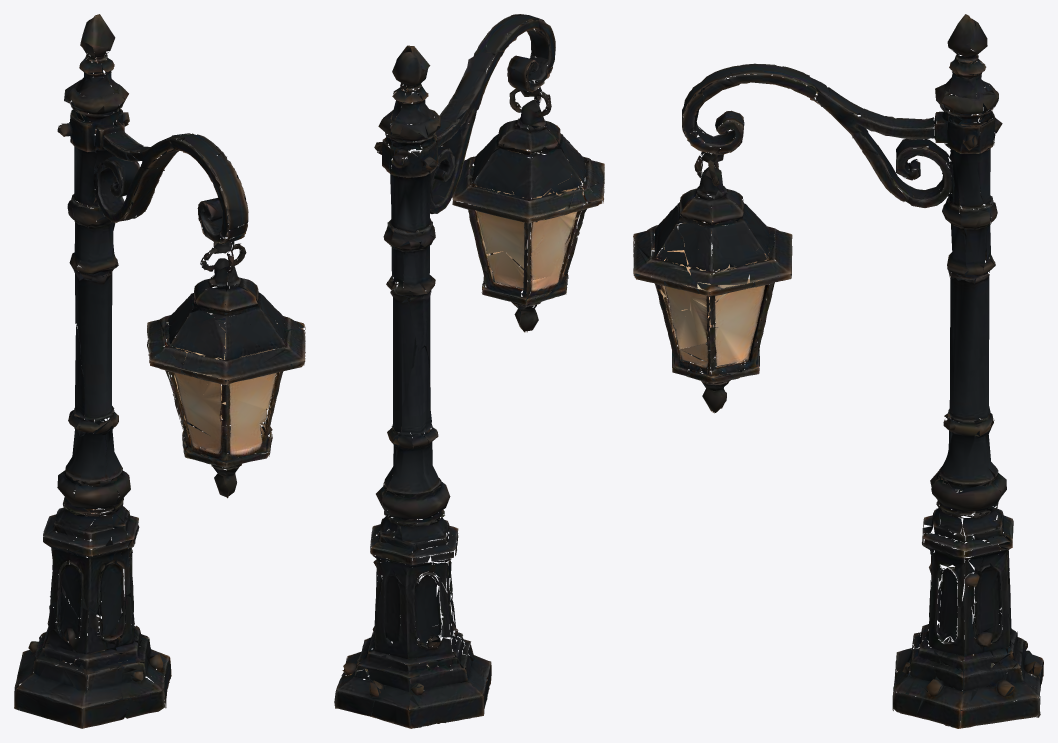
The model's file is base_basic_pbr.glb.
The picture shows the model from 3 angles, left to right: view 1: azimuth 30°, elevation 25°; view 2: azimuth 150°, elevation 25°; view 3: azimuth 270°, elevation 25°; orthographic projection. The views are drawn at different scales.
Visible parts, largest first — view 1: model; view 2: model; view 3: model.
Boxes of the visible parts, box(x1,y1,x2,y2) form: model: box(14, 14, 305, 728); model: box(334, 14, 604, 728); model: box(633, 14, 1043, 728).
Size of the model in its own units: 0.4684 by 1.9 by 1.03.
Materials: 1 (1 with a texture image).
